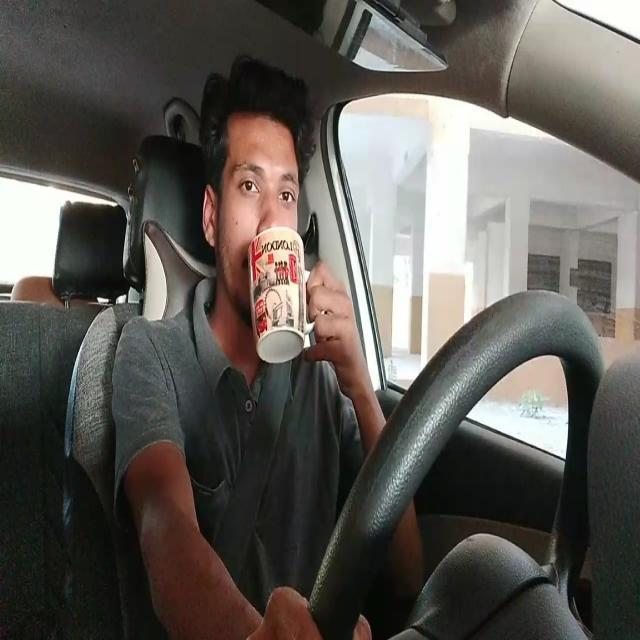Drinking: (202, 114, 351, 366)
